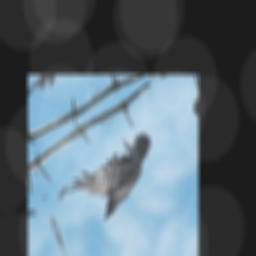Crow: (49, 123, 165, 243)
